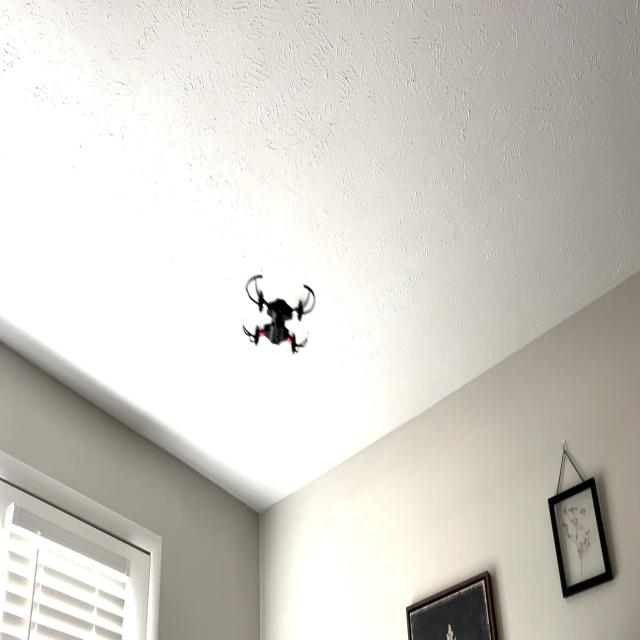drone: (234, 260, 320, 360)
